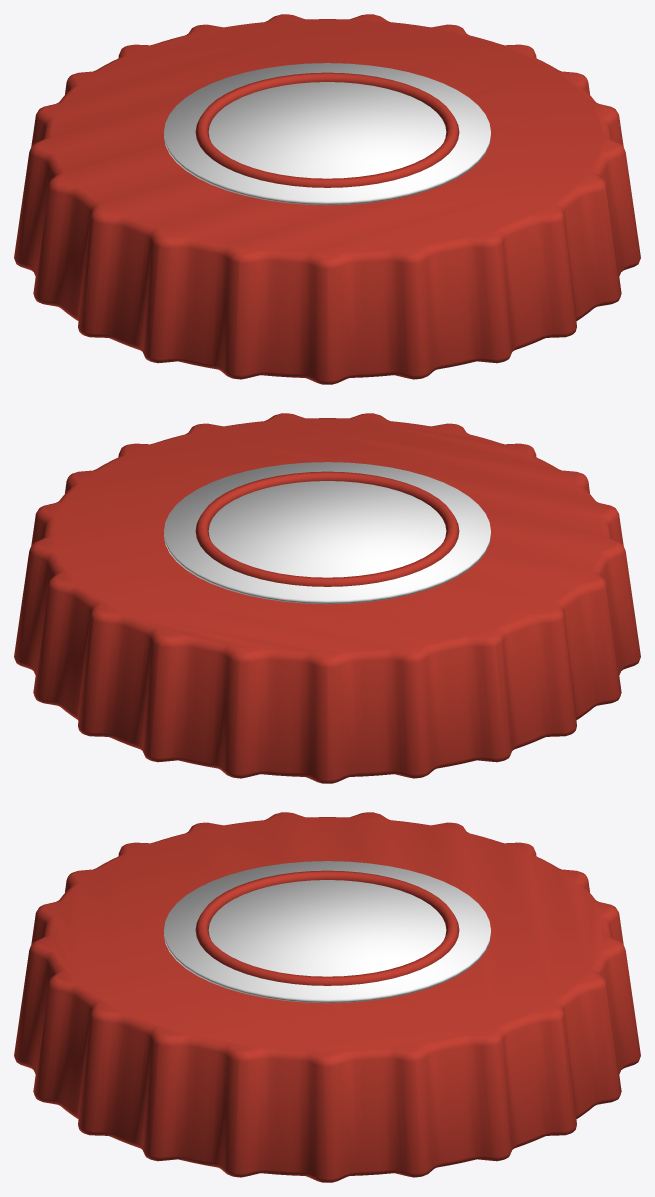
File: items-bottlecap.glb
The picture shows the model from 3 angles, top to bottom: view 1: azimuth 30°, elevation 25°; view 2: azimuth 150°, elevation 25°; view 3: azimuth 270°, elevation 25°; orthographic projection.
Parts seen in each view (by area): view 1: BottleCap__Cap, BottleCap__Logo, BottleCap__LogoRing; view 2: BottleCap__Cap, BottleCap__Logo, BottleCap__LogoRing; view 3: BottleCap__Cap, BottleCap__Logo, BottleCap__LogoRing.
Boxes of the visible parts, left/top/right/bottom form: BottleCap__Cap: left=14, top=14, right=640, bottom=384; BottleCap__Logo: left=164, top=63, right=490, bottom=205; BottleCap__LogoRing: left=195, top=72, right=459, bottom=187; BottleCap__Cap: left=14, top=413, right=640, bottom=783; BottleCap__Logo: left=164, top=462, right=490, bottom=604; BottleCap__LogoRing: left=195, top=471, right=459, bottom=586; BottleCap__Cap: left=14, top=812, right=640, bottom=1182; BottleCap__Logo: left=164, top=861, right=490, bottom=1003; BottleCap__LogoRing: left=195, top=870, right=459, bottom=985.
Size of the model in its own units: 5.73 by 1.29 by 5.75.
